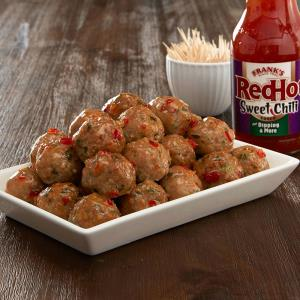meatballs: (69, 119, 223, 174)
